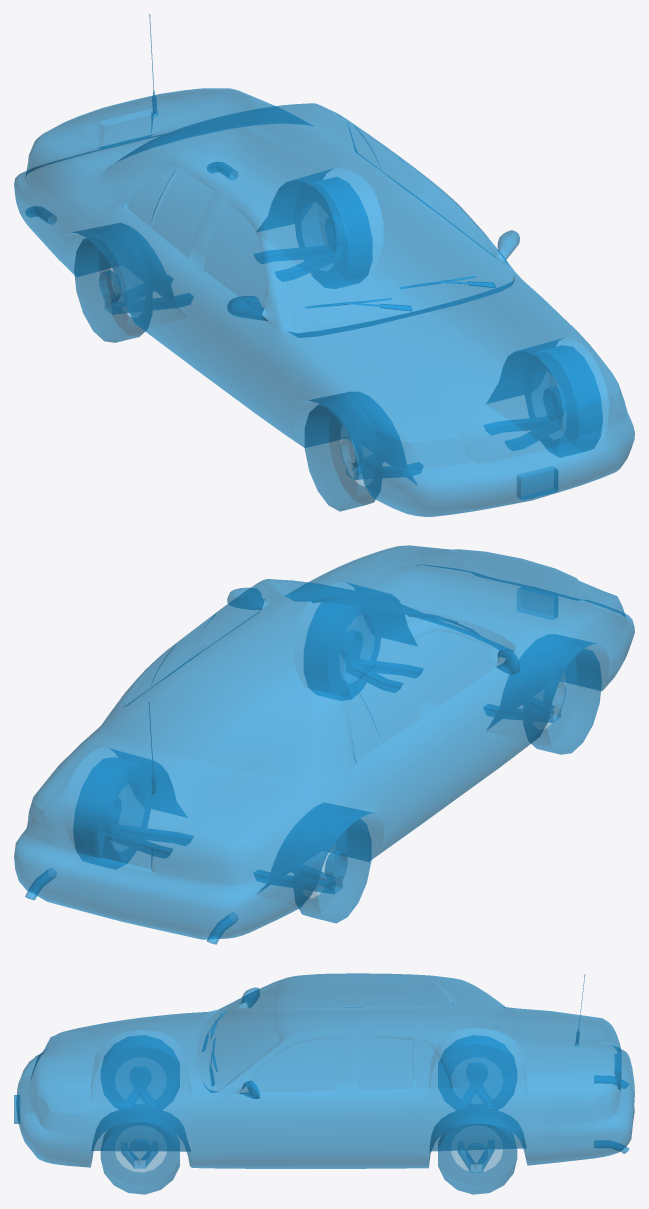
3 views of the same model, one above another, from view 1: azimuth 30°, elevation 25°; view 2: azimuth 150°, elevation 25°; view 3: azimuth 270°, elevation 25° (orthographic). The views are drawn at different scales.
Parts seen in each view (by area): view 1: ____01, ____02, ____04, ____03; view 2: ____01, ____02, ____04, ____03; view 3: ____01, ____02, ____04, ____03.
Part boxes in pixels (x1,y1,x2,y2): ____01: (14, 14, 634, 516); ____02: (119, 104, 501, 328); ____04: (74, 177, 602, 511); ____03: (26, 88, 627, 469); ____01: (14, 545, 634, 944); ____02: (108, 583, 494, 777); ____04: (73, 603, 601, 923); ____03: (26, 546, 627, 883); ____01: (14, 973, 634, 1172); ____02: (206, 977, 519, 1091); ____04: (100, 1035, 517, 1194); ____03: (34, 1018, 621, 1133).
Size of the model in its own units: 21.17 by 16.85 by 53.71.
